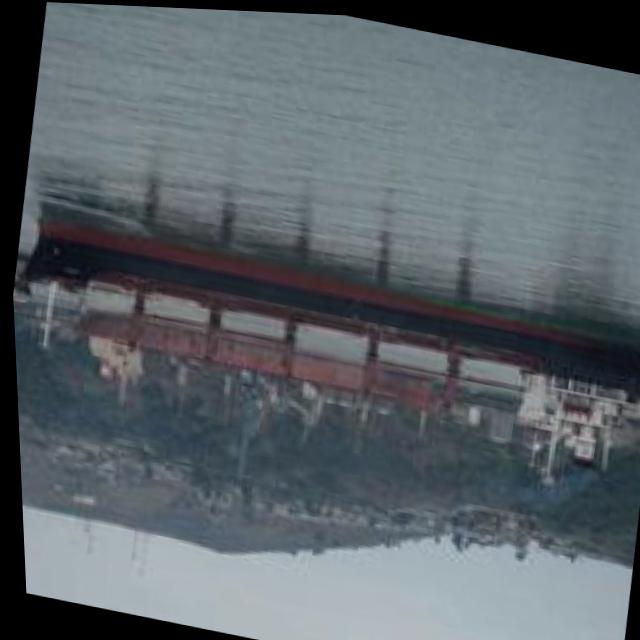ship2: (20, 213, 640, 481)
